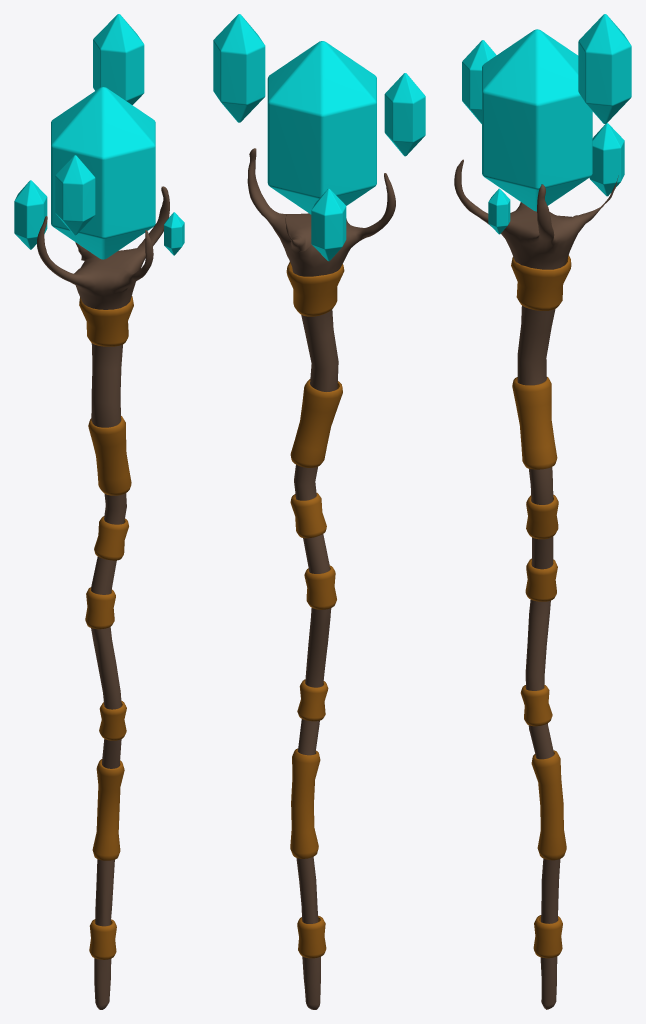
The model's file is wizard staff.fbx.
The picture shows the model from 3 angles, left to right: view 1: azimuth 30°, elevation 25°; view 2: azimuth 150°, elevation 25°; view 3: azimuth 270°, elevation 25°; orthographic projection. The views are drawn at different scales.
Visible parts, largest first — view 1: wizard_staff; view 2: wizard_staff; view 3: wizard_staff.
Part boxes in pixels (<box>): wizard_staff: <box>14,14,184,1009</box>; wizard_staff: <box>213,14,425,1009</box>; wizard_staff: <box>454,14,631,1009</box>.
Bounding box in the file's own units: 1.69 × 11.16 × 1.76.
